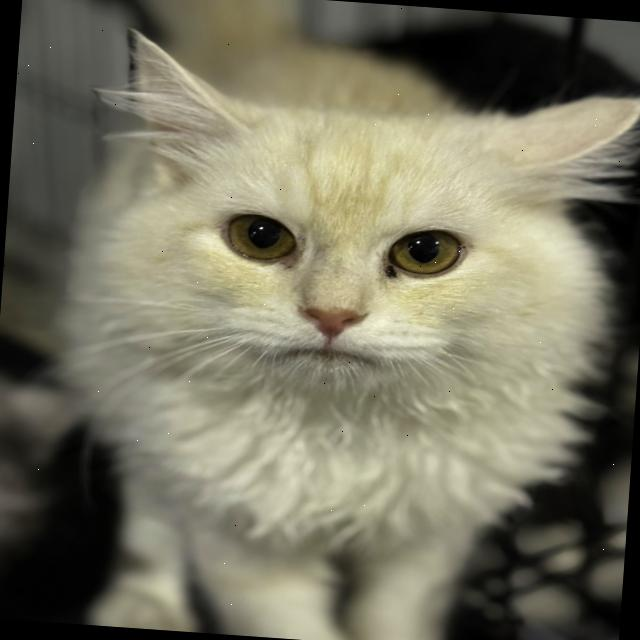persian_cat: (43, 18, 640, 576)
